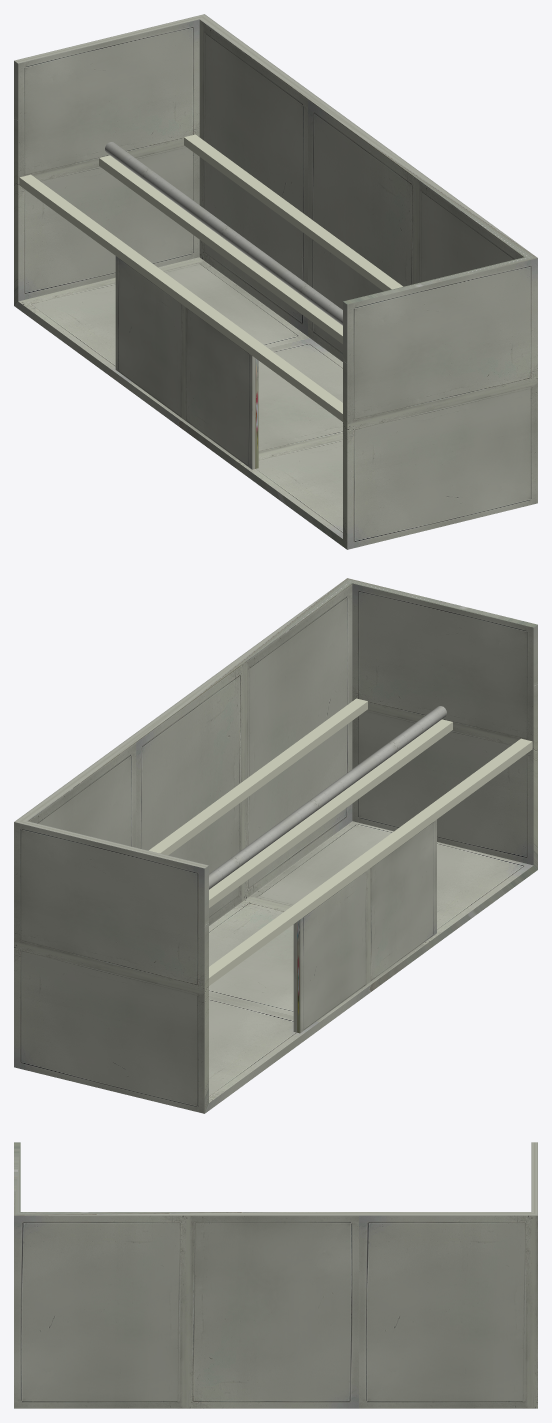
The model's file is 组装线_B1_线头设备3.fbx.
3 views of the same model, one above another, from view 1: azimuth 30°, elevation 25°; view 2: azimuth 150°, elevation 25°; view 3: azimuth 270°, elevation 25° (orthographic). The views are drawn at different scales.
Visible parts, largest first — view 1: Line003; view 2: Line003; view 3: Line003.
Part boxes in pixels (<box>): Line003: <box>14,14,537,549</box>; Line003: <box>14,578,537,1113</box>; Line003: <box>14,1142,537,1408</box>.
Size of the model in its own units: 24.71 by 30.37 by 74.77.
3 materials, 3 textured.
